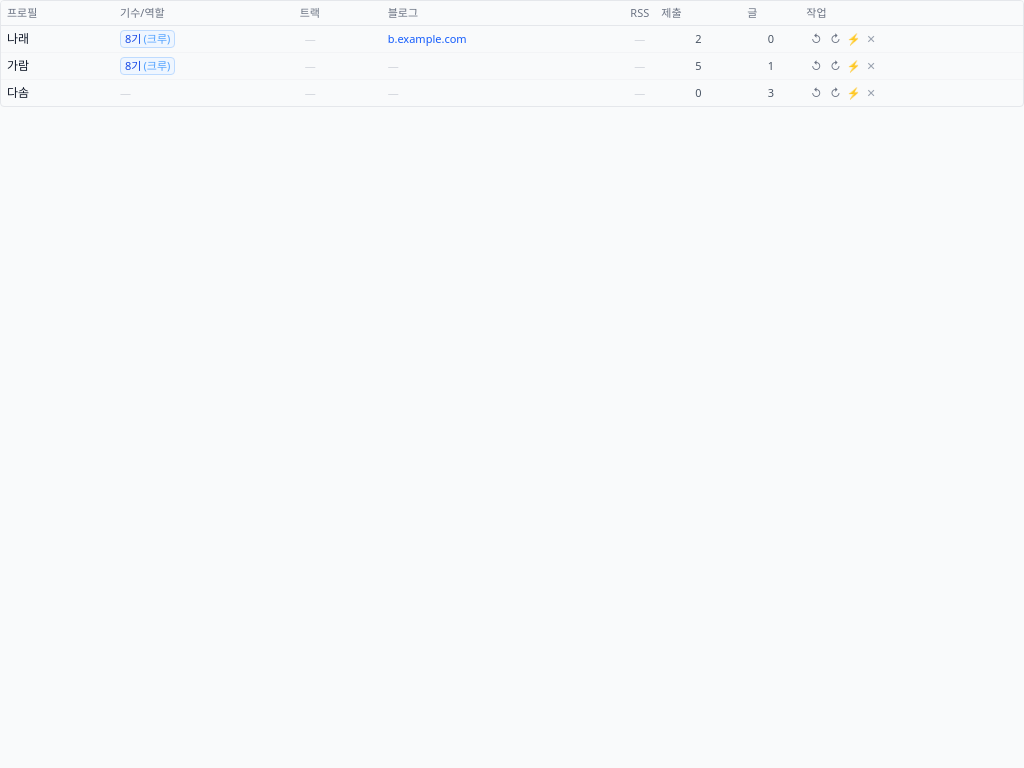
MemberTable › should open submissions and blog posts, and delete a submission
Click the 2nd button titled "PR 확인": x=698, y=93 [695,85,701,101]
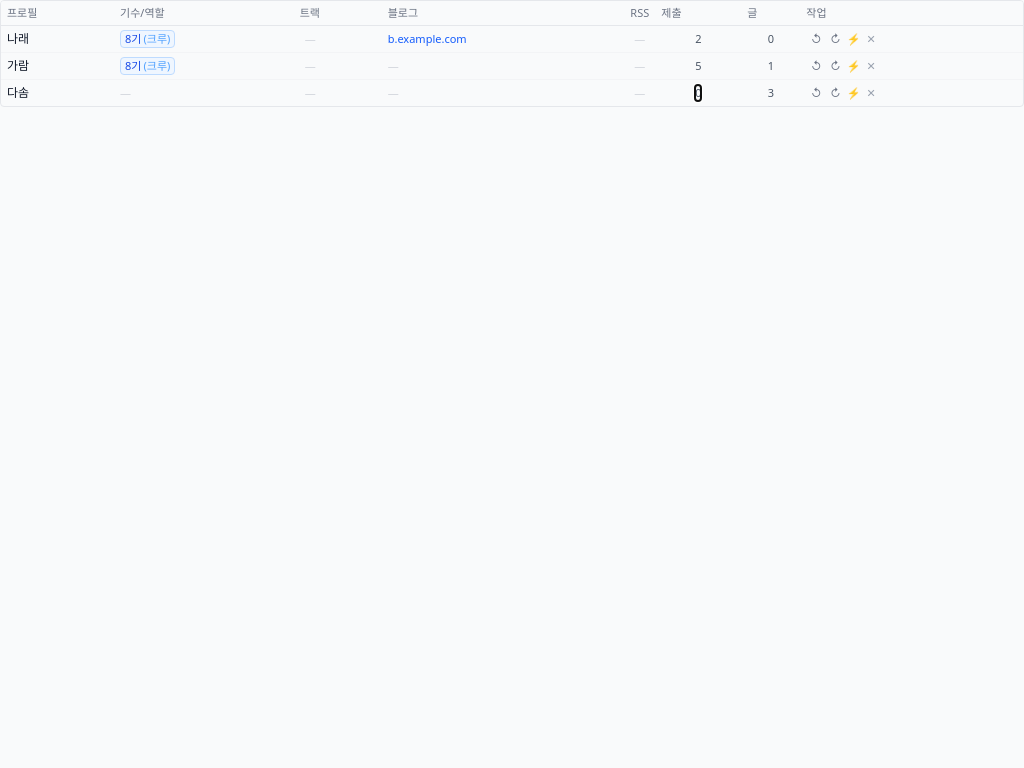
Click the button titled "PR 확인": x=698, y=66 [695,58,701,74]
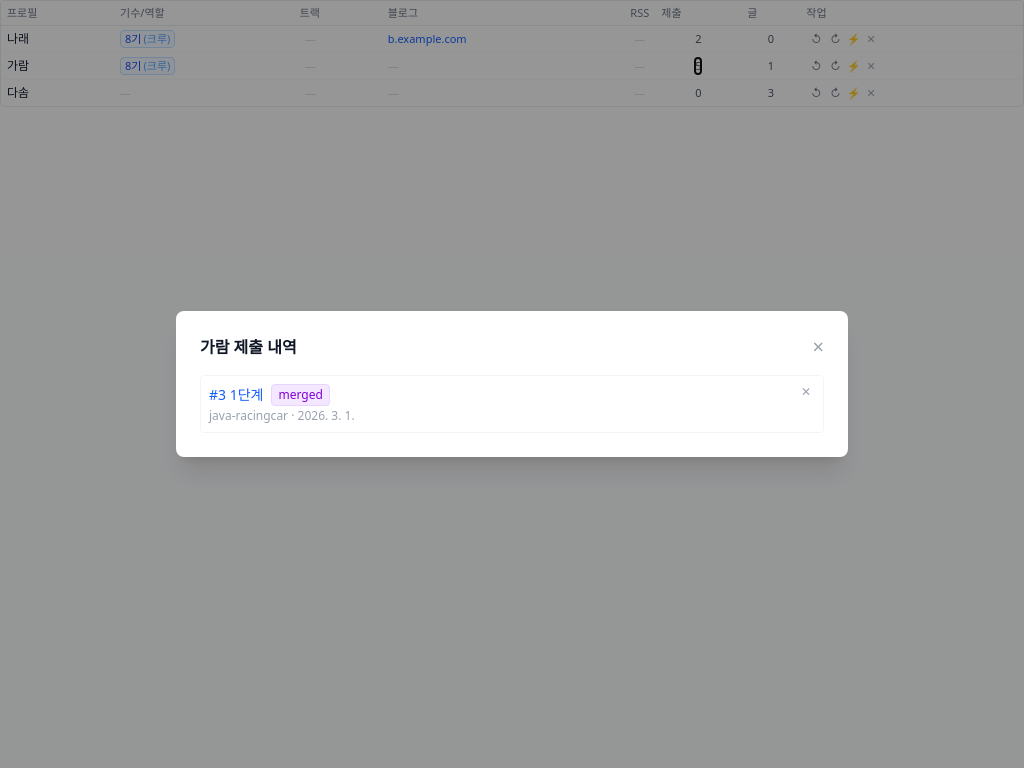
Expected: the link "#3 1단계" is shown, [209,385,264,405]
Expected: the heading "가람 제출 내역" is shown, [200,335,297,359]
Click the button titled "PR 삭제": x=806, y=392 [797,384,815,400]
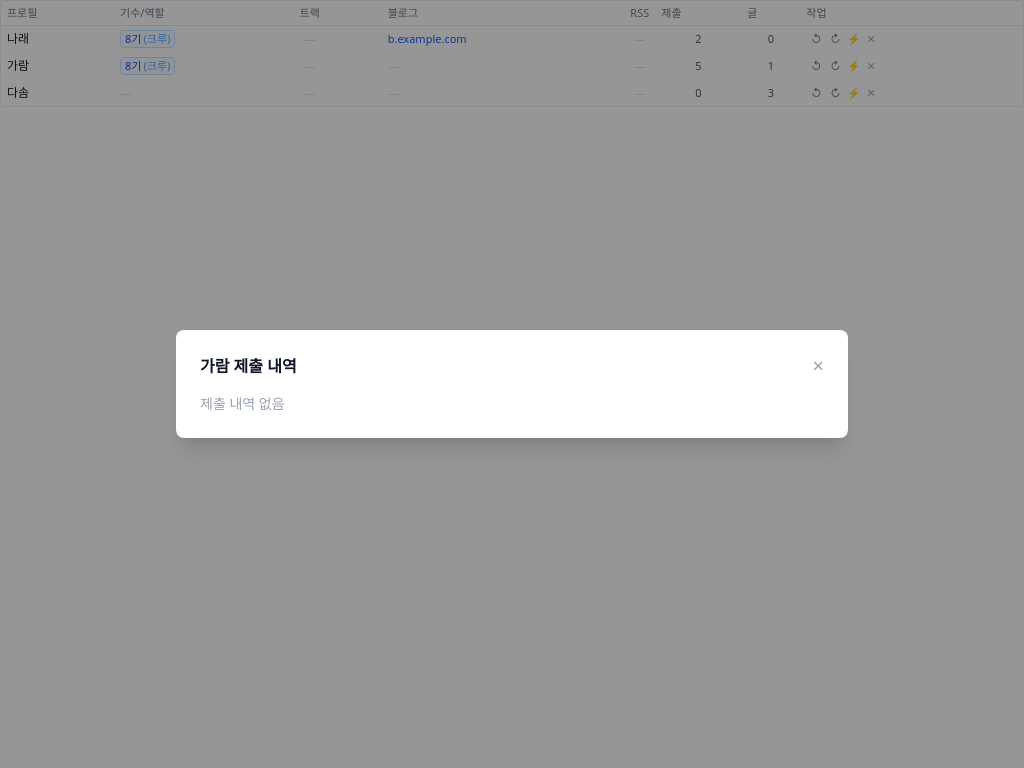
Expected: the text "제출 내역 없음" is shown, [200,394,285,413]
Click the button "×": x=818, y=366 [812,356,824,376]
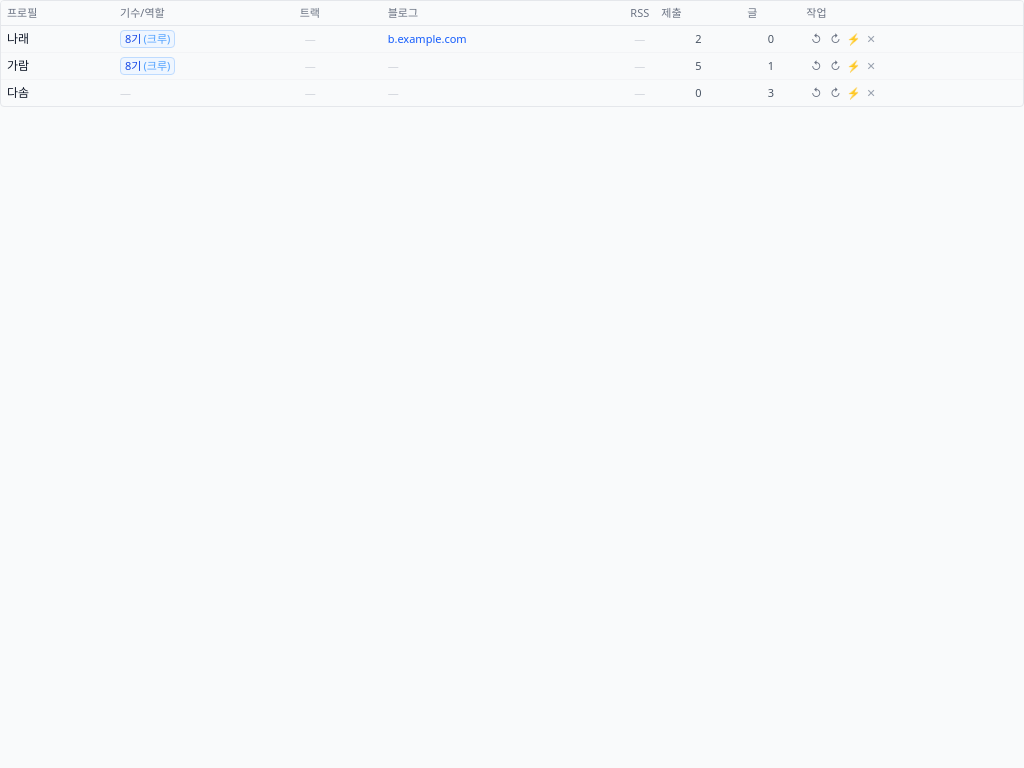
Click the 1st button titled "블로그 글 보기": x=771, y=39 [768,31,774,47]
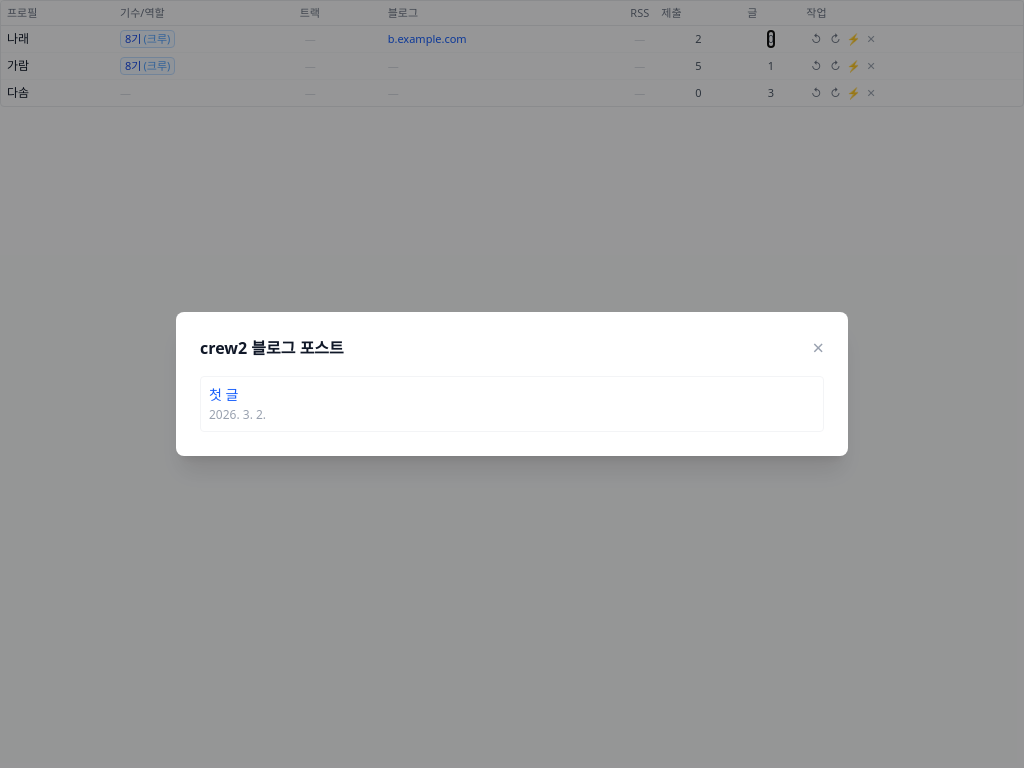
Expected: the link "첫 글" is shown, [209,385,238,404]
Expected: the heading "crew2 블로그 포스트" is shown, [200,336,344,360]
